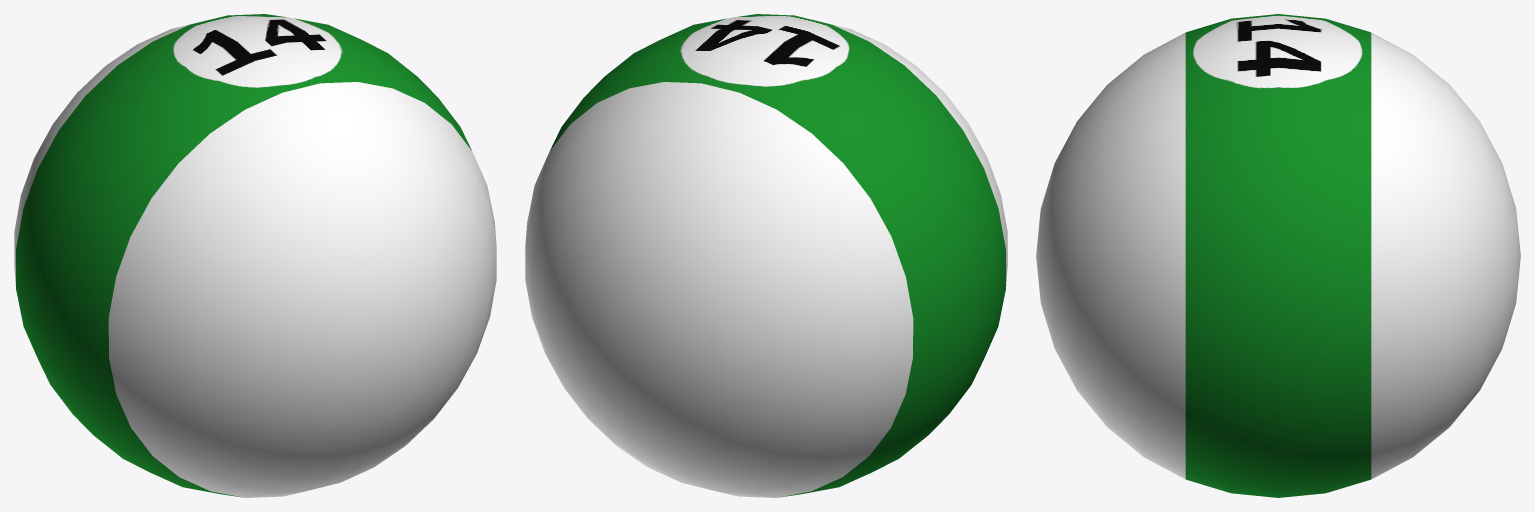
Rendered from 14Ball.glb.
The picture shows the model from 3 angles, left to right: view 1: azimuth 30°, elevation 25°; view 2: azimuth 150°, elevation 25°; view 3: azimuth 270°, elevation 25°; orthographic projection.
Parts seen in each view (by area): view 1: SphereStriped; view 2: SphereStriped; view 3: SphereStriped.
Part boxes in pixels (x1,y1,x2,y2): SphereStriped: [14, 14, 496, 497]; SphereStriped: [525, 14, 1007, 497]; SphereStriped: [1036, 14, 1520, 497].
Size of the model in its own units: 0.1991 by 0.1991 by 0.2.
1 material, 1 textured.
